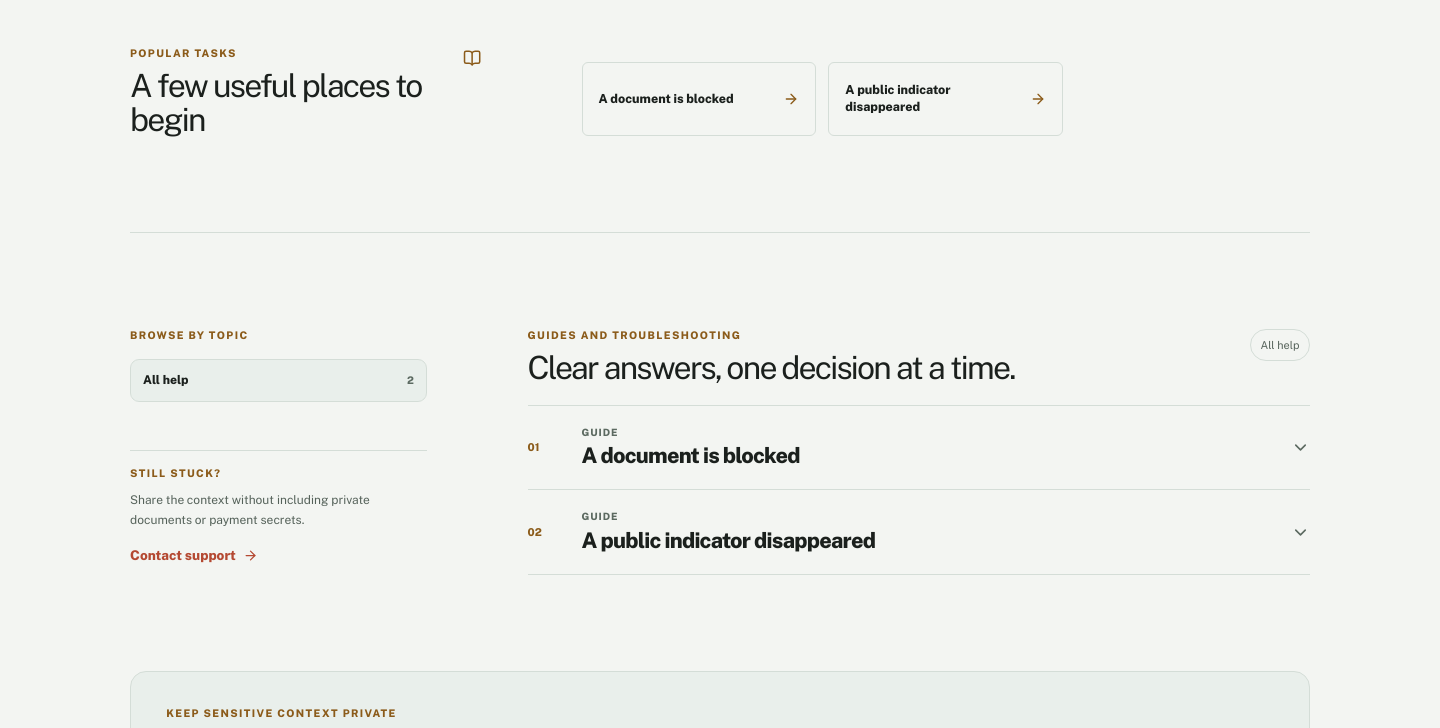
HelpCenter › opens and closes a guide with an accessible button
(page scrolled)
Step 1. Click the button "01 Guide A document is blocked" → (600, 432), box 528,406 -> 1310,489
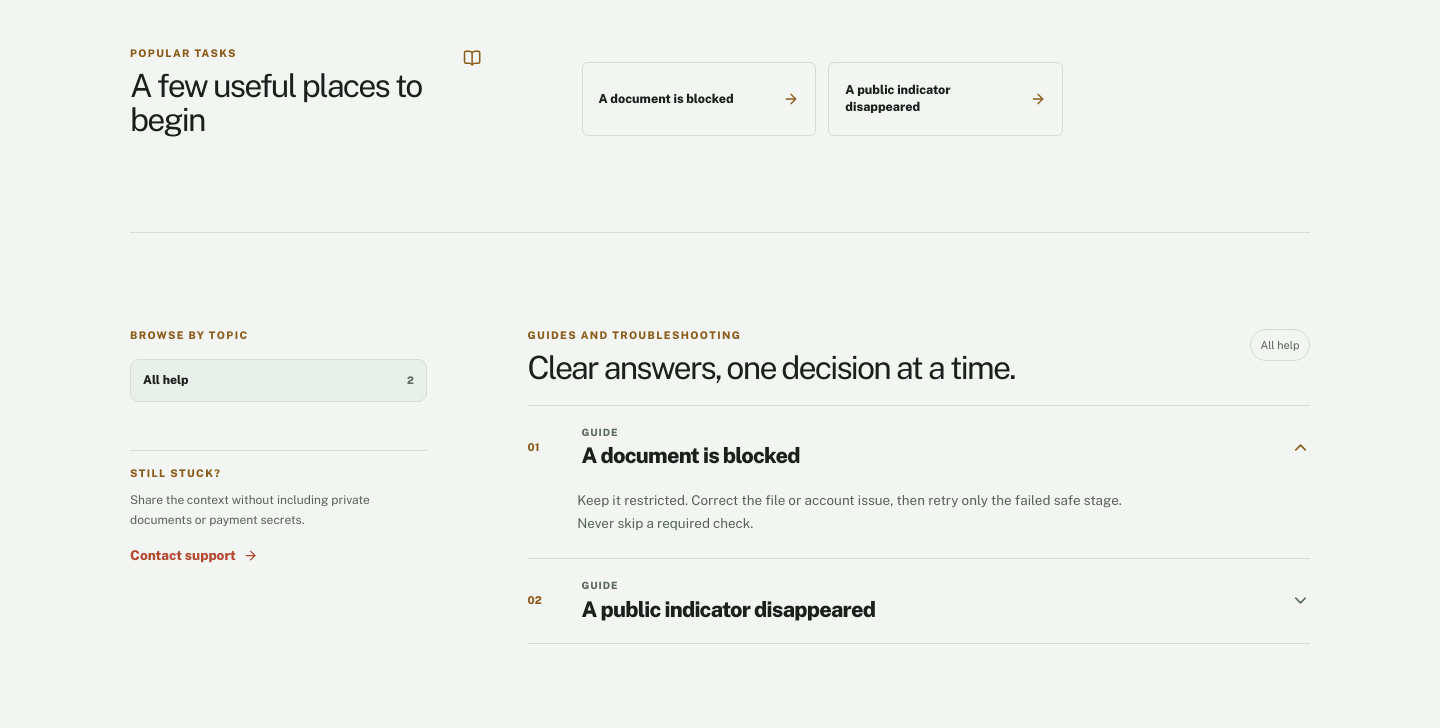
Expected: the button "01 Guide A document is blocked" is expanded
Expected: the text "Keep it restricted" is shown, 577,492 -> 1122,531
Step 2. Click the button "01 Guide A document is blocked" → (600, 432), box 528,406 -> 1310,489
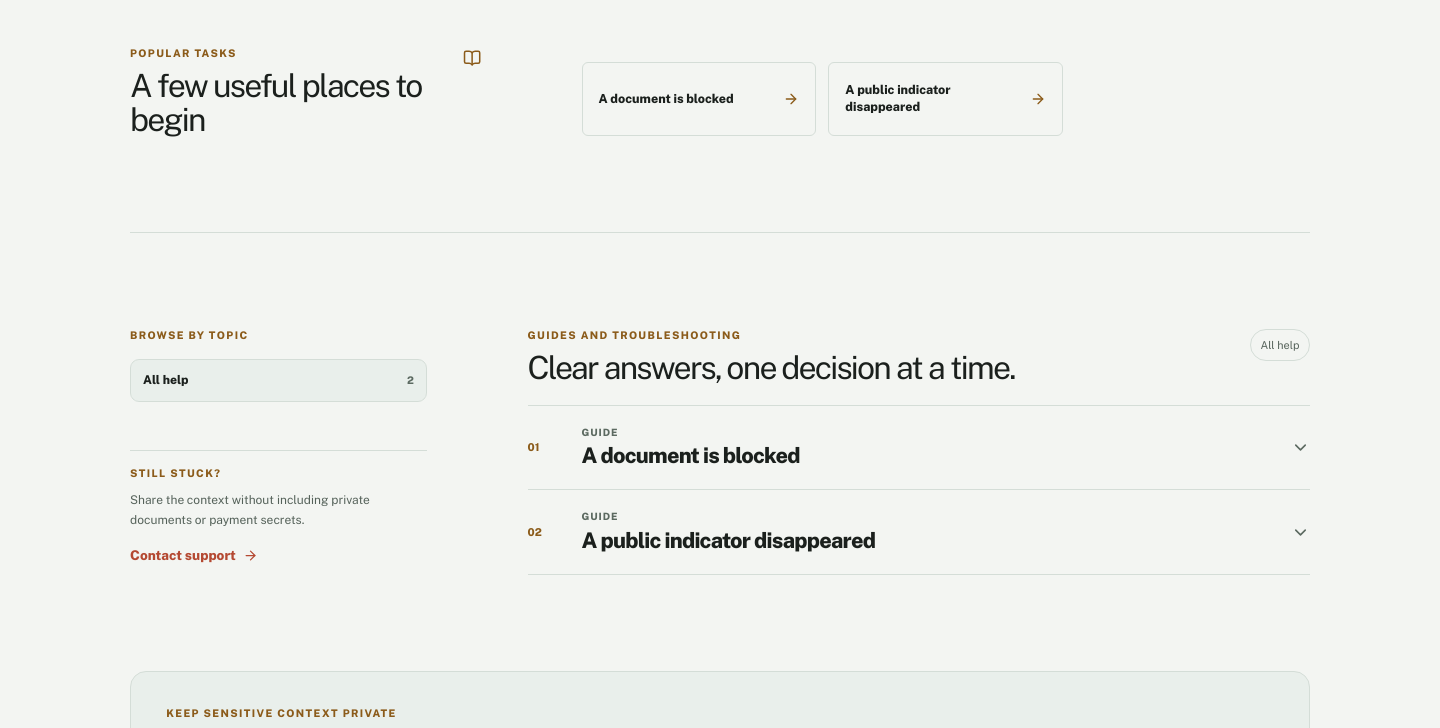
Expected: the button "01 Guide A document is blocked" is collapsed, 528,406 -> 1310,489
